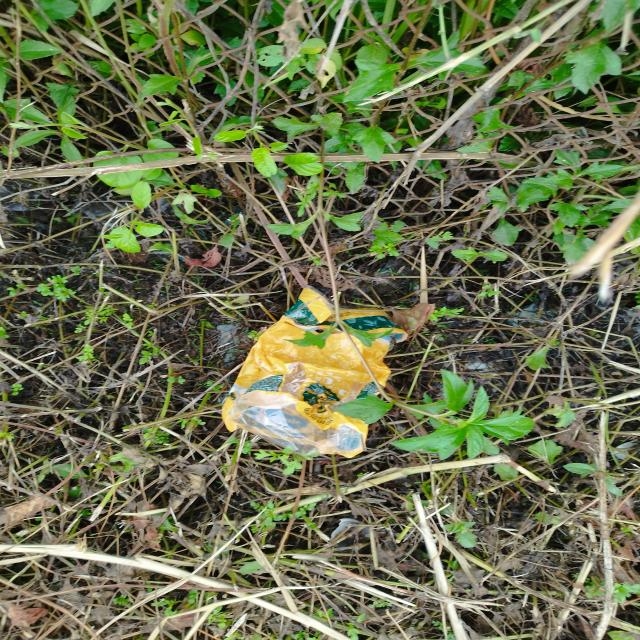packet: (223, 287, 409, 459)
